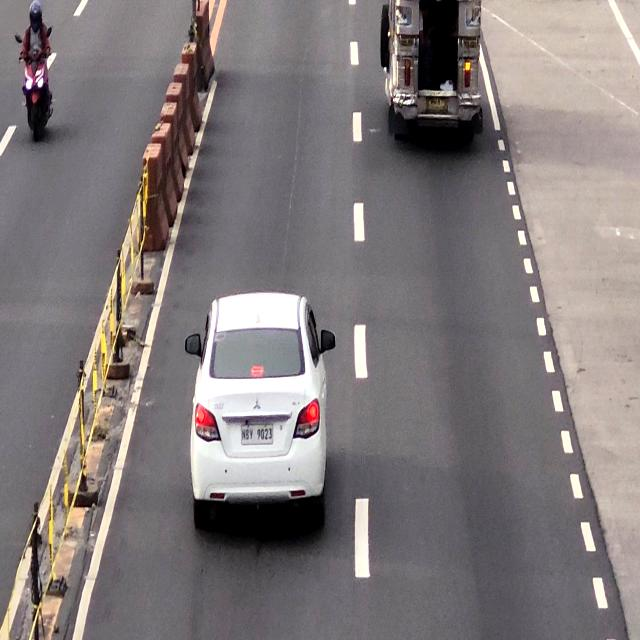Car: (192, 293, 329, 524)
Jeep: (390, 0, 479, 134)
License-Plate: (238, 421, 276, 450)
